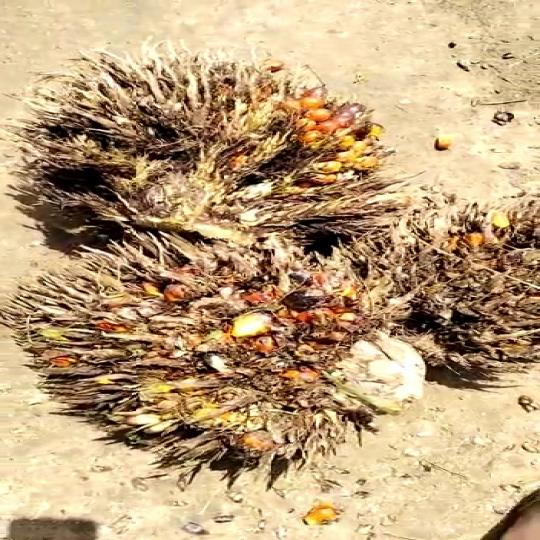terlalu masak: (0, 234, 443, 476), (23, 50, 405, 250)
